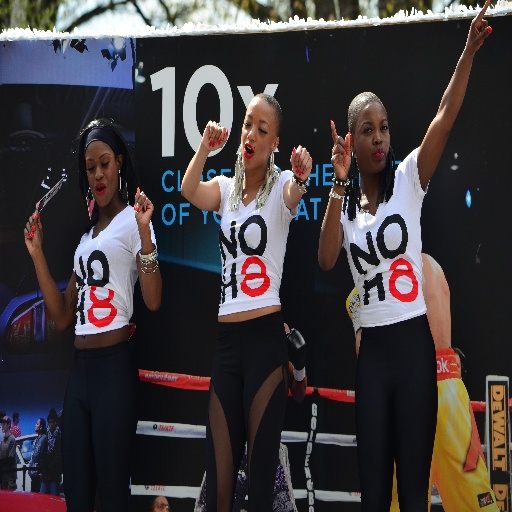hand: (16, 201, 44, 286), (464, 0, 494, 54), (329, 116, 352, 183), (288, 143, 313, 184), (133, 185, 154, 228), (201, 118, 228, 150), (287, 328, 307, 365), (343, 287, 361, 328)
